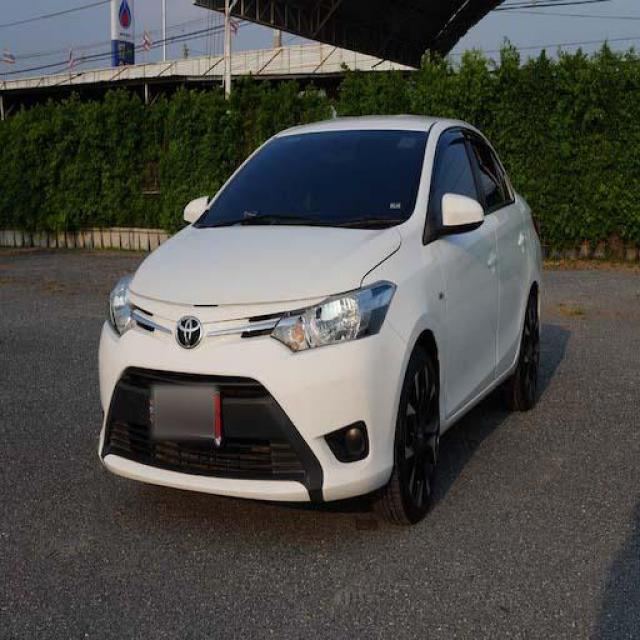back_left_door: (464, 126, 530, 376)
front_bumper: (99, 290, 411, 502)
front_glass: (193, 130, 430, 230)
front_left_door: (430, 127, 497, 417)
front_left_light: (271, 279, 399, 352)
front_right_light: (110, 271, 137, 338)
hood: (127, 224, 401, 305)
left_mirror: (441, 191, 485, 237)
right_mirror: (183, 194, 212, 225)
wheel: (368, 350, 440, 525), (515, 294, 541, 408)
